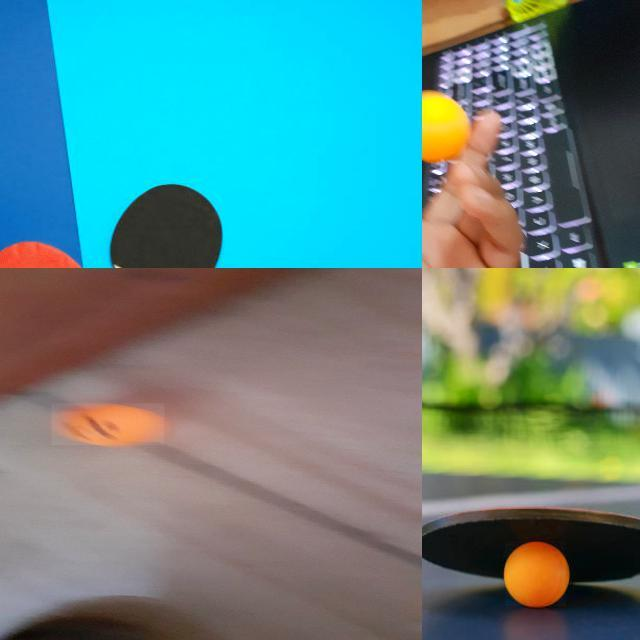ping-pong-ball: (51, 404, 166, 446), (504, 541, 568, 607), (422, 90, 468, 164)
